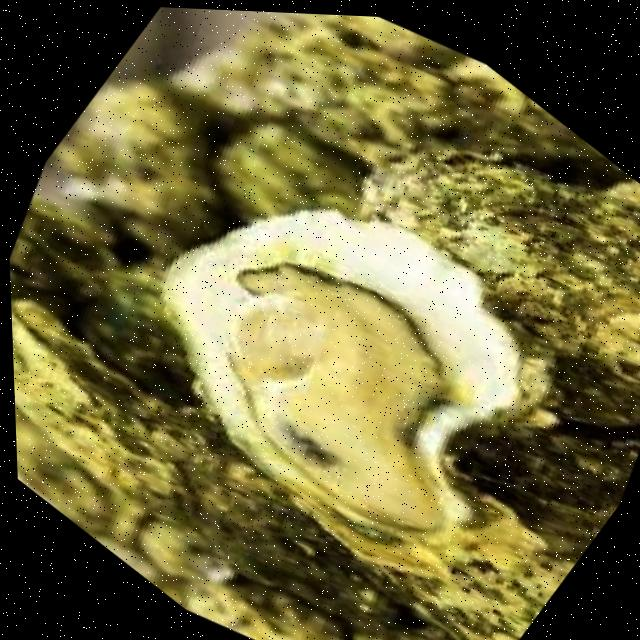Oyster-Indeterminate: (324, 43, 640, 451), (127, 404, 456, 640), (10, 276, 264, 559), (180, 8, 470, 231), (40, 43, 271, 274), (430, 355, 640, 581), (192, 97, 399, 299), (47, 223, 235, 403), (390, 484, 581, 640), (6, 166, 147, 346), (155, 526, 364, 640), (309, 596, 485, 640)
Oyster-Open: (163, 210, 519, 568)
